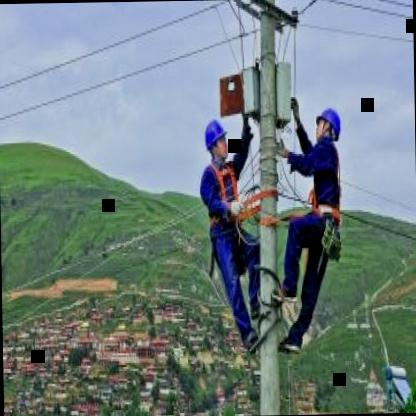helmet: (202, 114, 229, 165), (312, 104, 341, 145)
